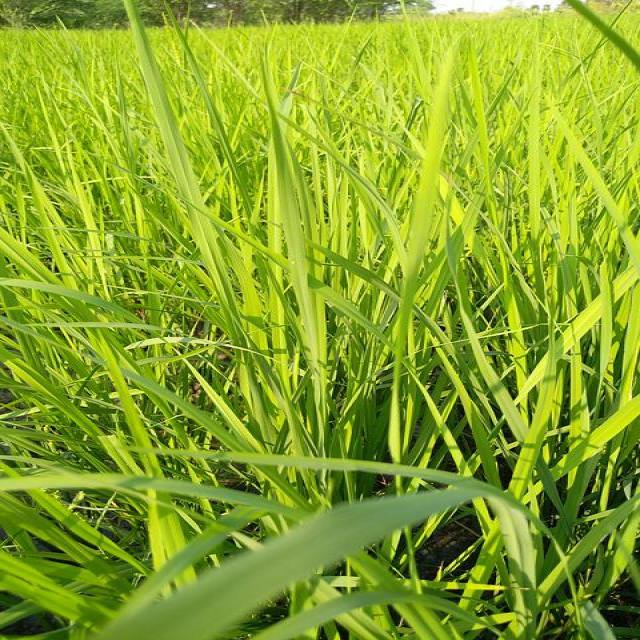Rice: (0, 501, 530, 640), (128, 0, 265, 346), (392, 37, 466, 383), (263, 67, 327, 440), (156, 447, 512, 501), (516, 258, 640, 406), (545, 107, 640, 256), (512, 407, 640, 500), (162, 350, 262, 447), (96, 339, 161, 473), (0, 469, 269, 501), (324, 246, 390, 350), (519, 28, 546, 262), (466, 323, 522, 423), (1, 277, 127, 321), (24, 165, 72, 276)
